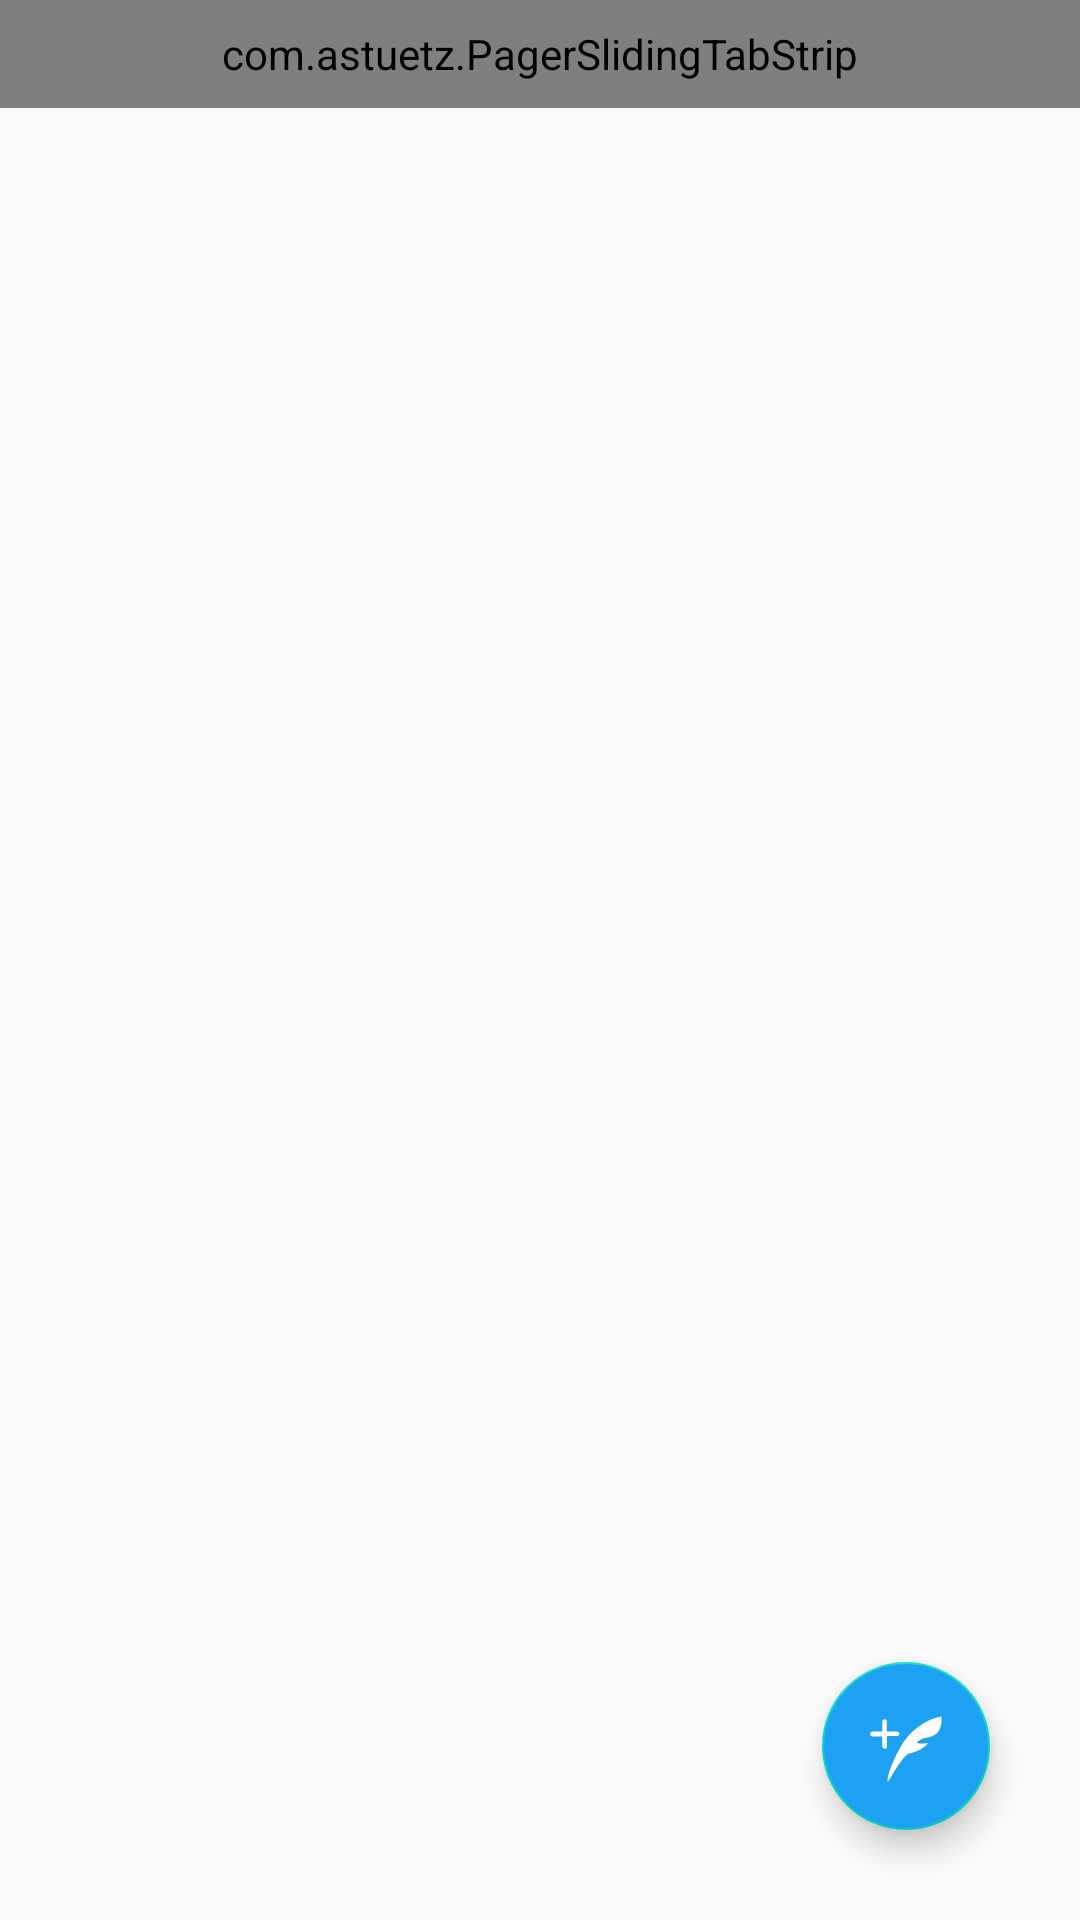

Where to tap for icons on this 1080px x 1920px app screen, as (x,y):
twitter compose: (906,1746)
